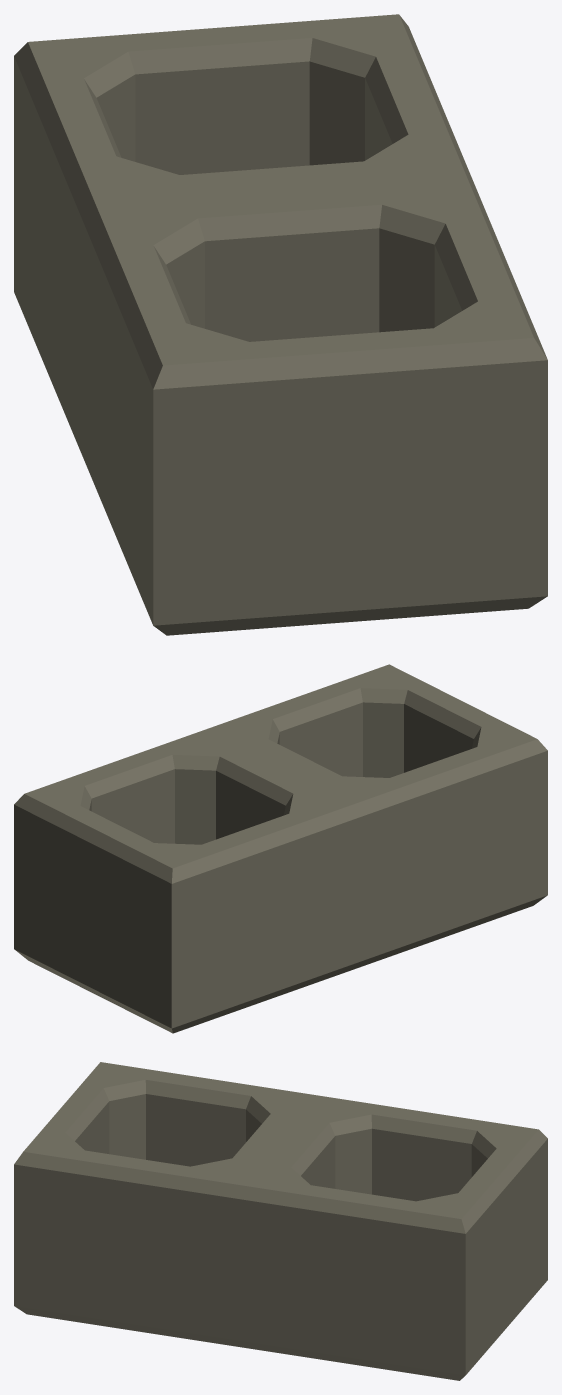
File: brick_a003.glb
3 renders of one model, top to bottom at view 1: azimuth 30°, elevation 25°; view 2: azimuth 150°, elevation 25°; view 3: azimuth 270°, elevation 25°, orthographic. The views are drawn at different scales.
Parts seen in each view (by area): view 1: brick_a003; view 2: brick_a003; view 3: brick_a003.
Boxes of the visible parts, bbox=[...] form: brick_a003: bbox=[14, 14, 547, 635]; brick_a003: bbox=[14, 664, 547, 1033]; brick_a003: bbox=[14, 1062, 547, 1380].
Size of the model in its own units: 0.3247 by 0.1499 by 0.4443.
Materials: 1 (1 with a texture image).
